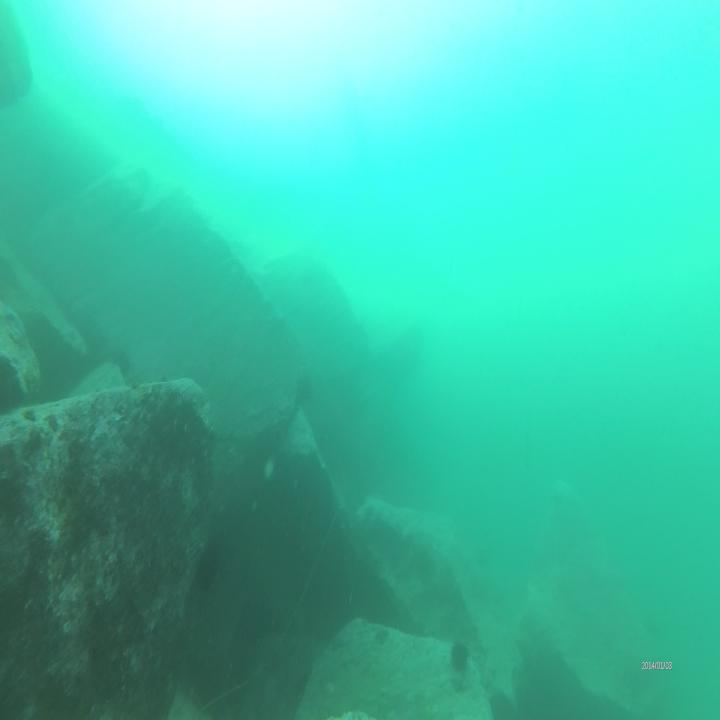echinus: (450, 634, 470, 680)
